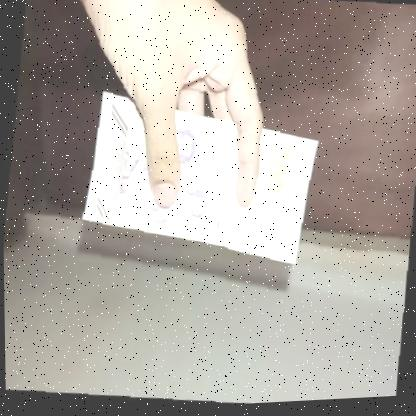two_hundred-front-vef: (74, 81, 324, 279)
